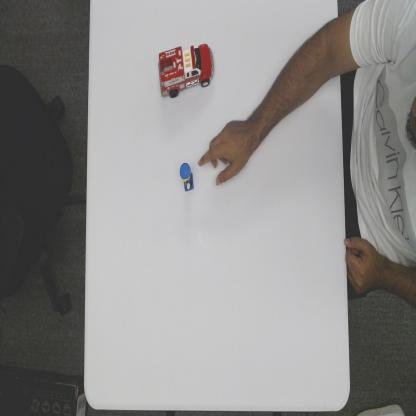Arm: (249, 40, 337, 148)
Firetruck: (157, 42, 216, 100)
Hand: (198, 119, 256, 188)
